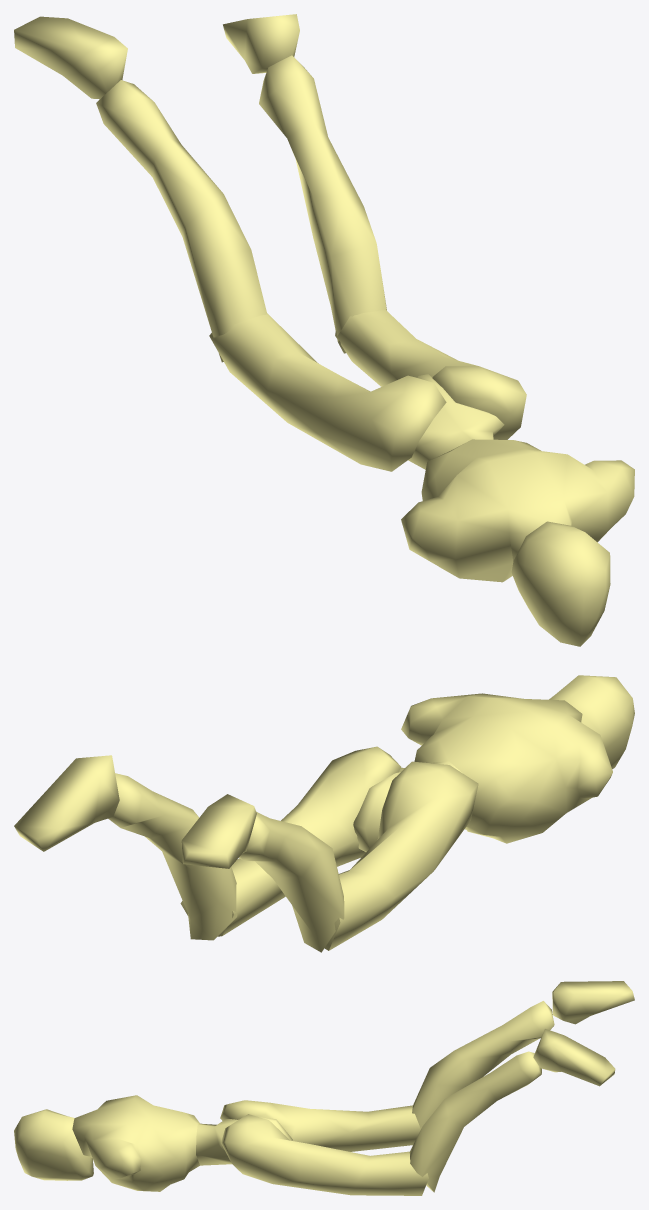
File: filth58.obj
3 views of the same model, one above another, from view 1: azimuth 30°, elevation 25°; view 2: azimuth 150°, elevation 25°; view 3: azimuth 270°, elevation 25° (orthographic). The views are drawn at different scales.
Parts seen in each view (by area): view 1: Melee_Husk; view 2: Melee_Husk; view 3: Melee_Husk.
Boxes of the visible parts, x1,y1,x2,y2 form: Melee_Husk: (14, 14, 634, 646); Melee_Husk: (14, 675, 634, 952); Melee_Husk: (14, 981, 634, 1195).
Size of the model in its own units: 23.71 by 26.89 by 82.43.
